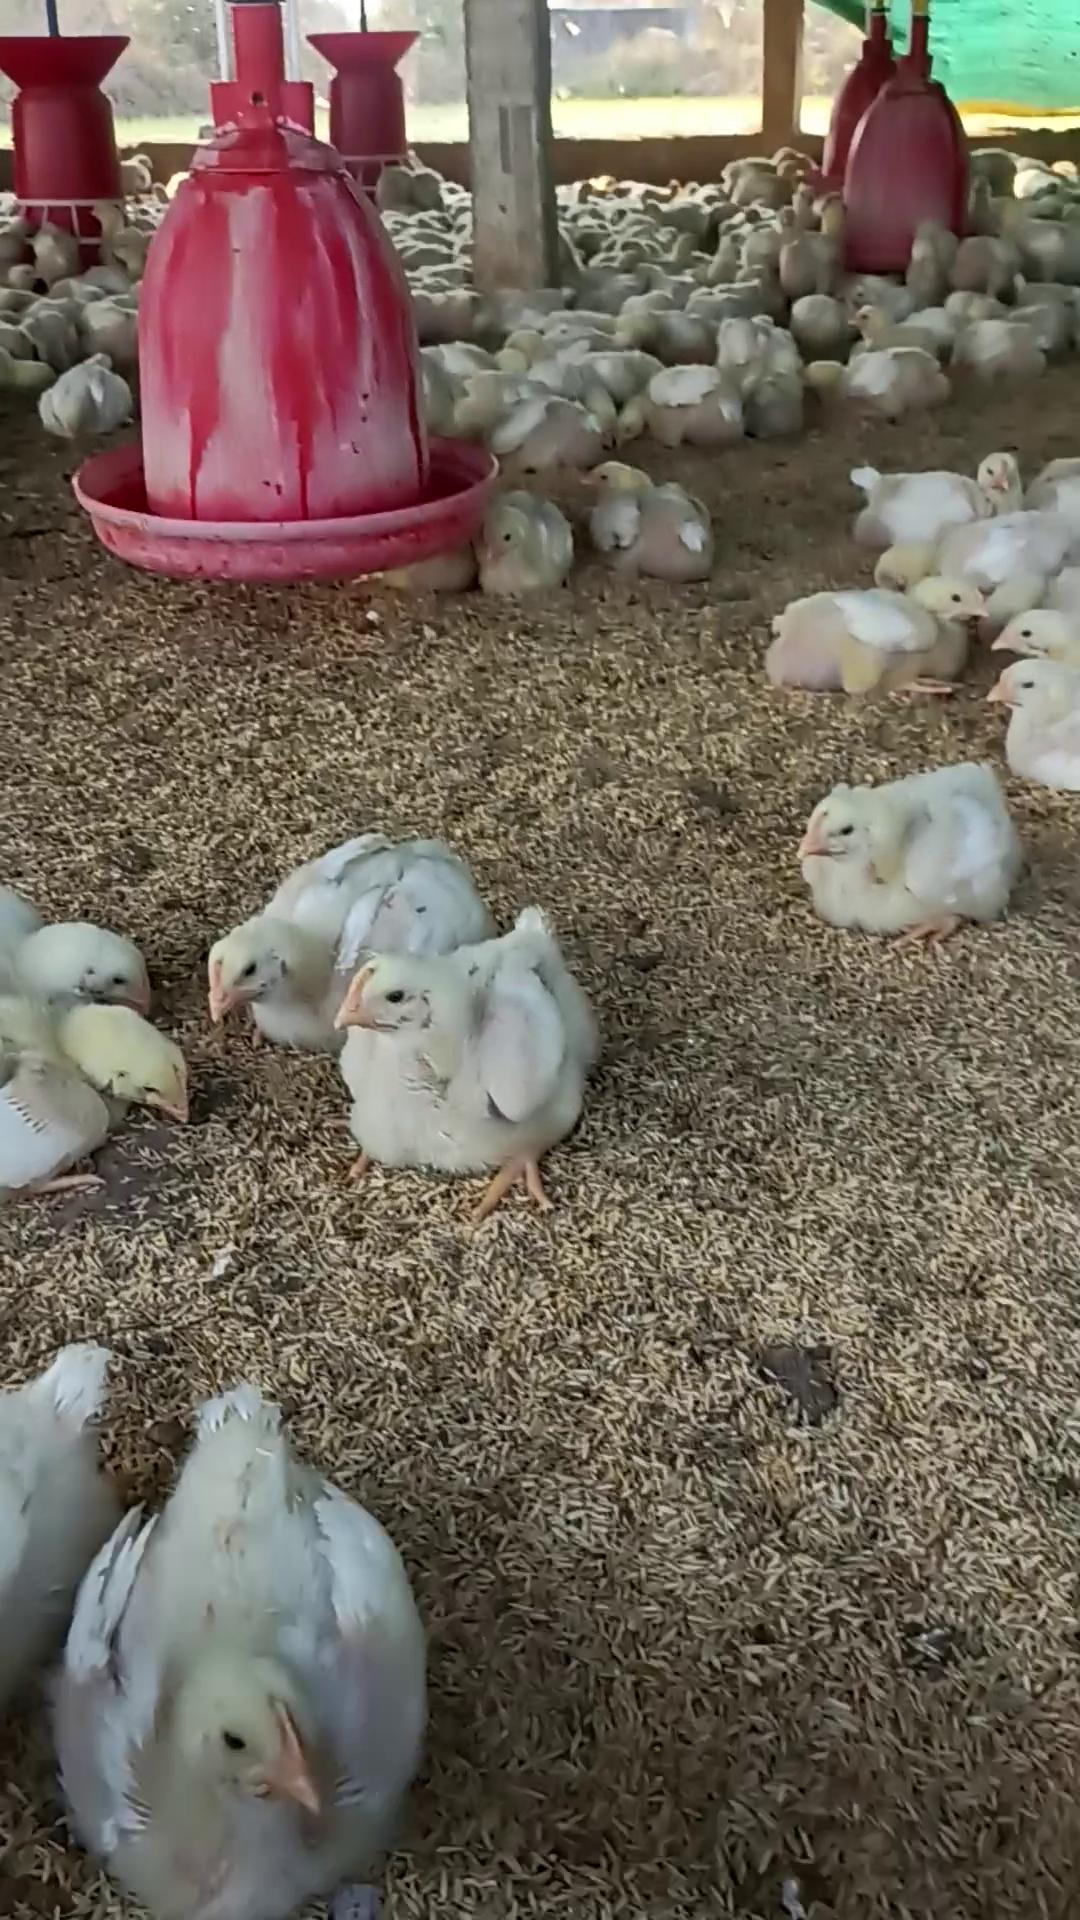Pollos: (55, 1415, 433, 1917), (351, 913, 608, 1145), (191, 835, 462, 1026), (790, 765, 1006, 932), (756, 571, 994, 709), (4, 992, 190, 1131), (585, 448, 717, 578), (851, 447, 1026, 542), (611, 359, 748, 433), (823, 344, 955, 409), (32, 356, 133, 436), (483, 495, 563, 593)
